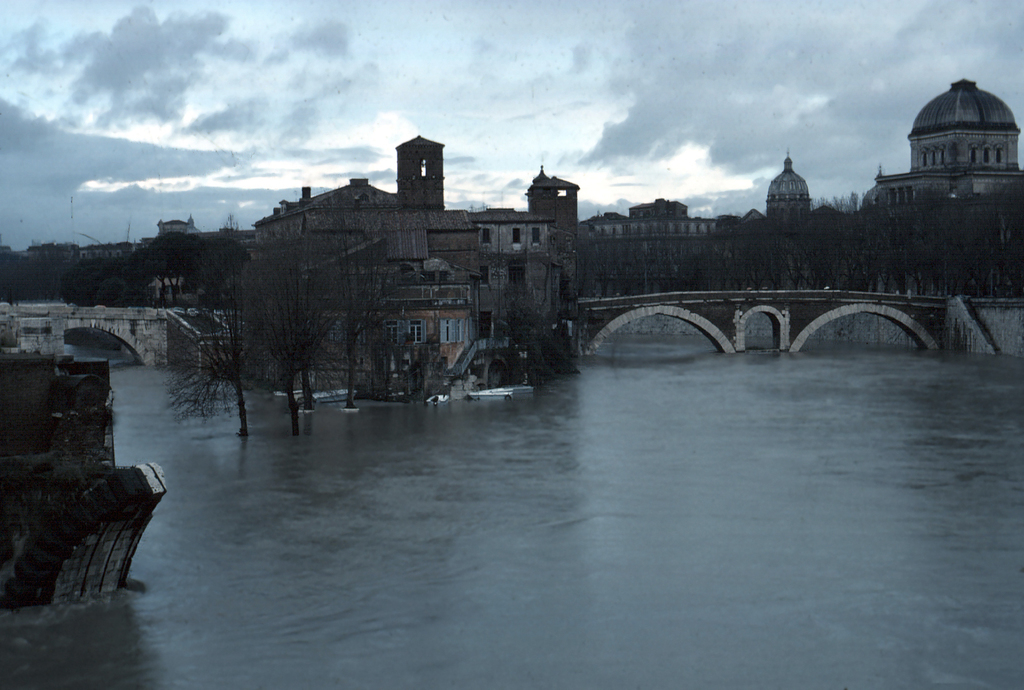Tree: (597, 186, 1023, 291), (160, 250, 350, 435), (242, 241, 341, 430), (0, 239, 206, 314), (288, 270, 341, 425), (494, 291, 560, 374)
